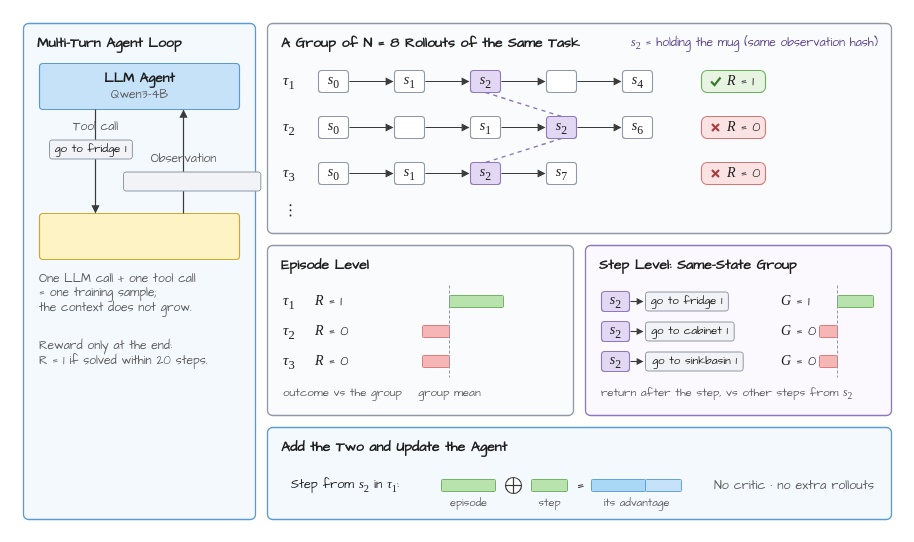
This 914x542 diagram has some shape labels left out. The shapes that lost their labels are listed below. From the top down, each one's box as (x1, y1, x2, y2) in pixels, then its label:
(546, 70, 577, 93): s 3
(394, 116, 425, 139): s 5
(122, 171, 261, 191): “You arrive at fridge 1.”
(38, 212, 240, 260): Environment ALFWorld household tasks
